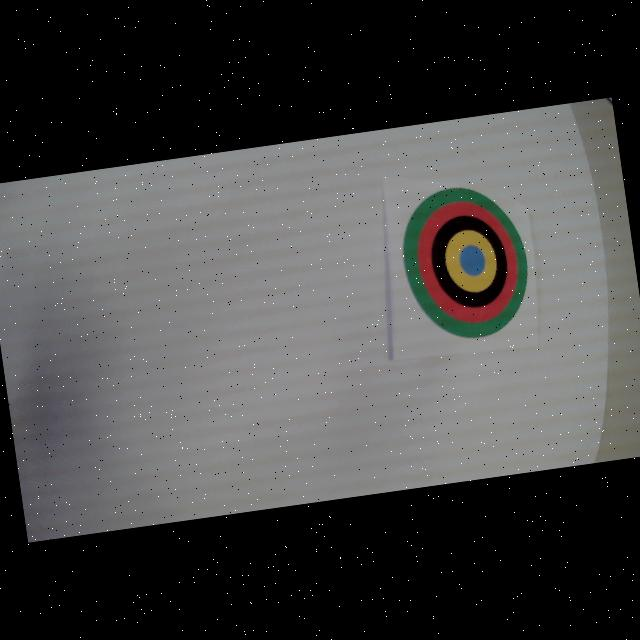COGNITIVE: (394, 179, 537, 347)
